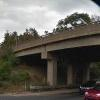Bridge: (8, 18, 100, 79)
